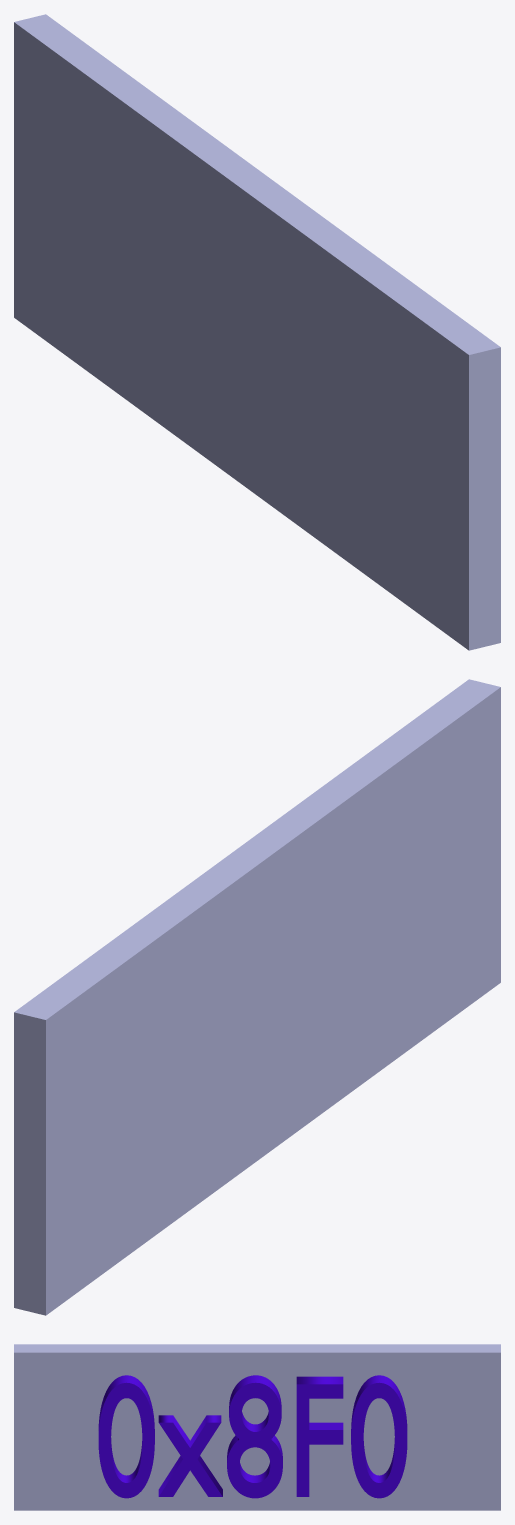
3 renders of one model, top to bottom at view 1: azimuth 30°, elevation 25°; view 2: azimuth 150°, elevation 25°; view 3: azimuth 270°, elevation 25°, orthographic. The views are drawn at different scales.
Visible parts, largest first — view 1: Cube; view 2: Cube; view 3: Cube, Text.
Part boxes in pixels (x1,y1,x2,y2): Cube: [14, 14, 500, 650]; Cube: [14, 679, 500, 1315]; Cube: [14, 1344, 500, 1510]; Text: [98, 1375, 407, 1498].
Size of the model in its own units: 2.65 by 12.33 by 34.39.
